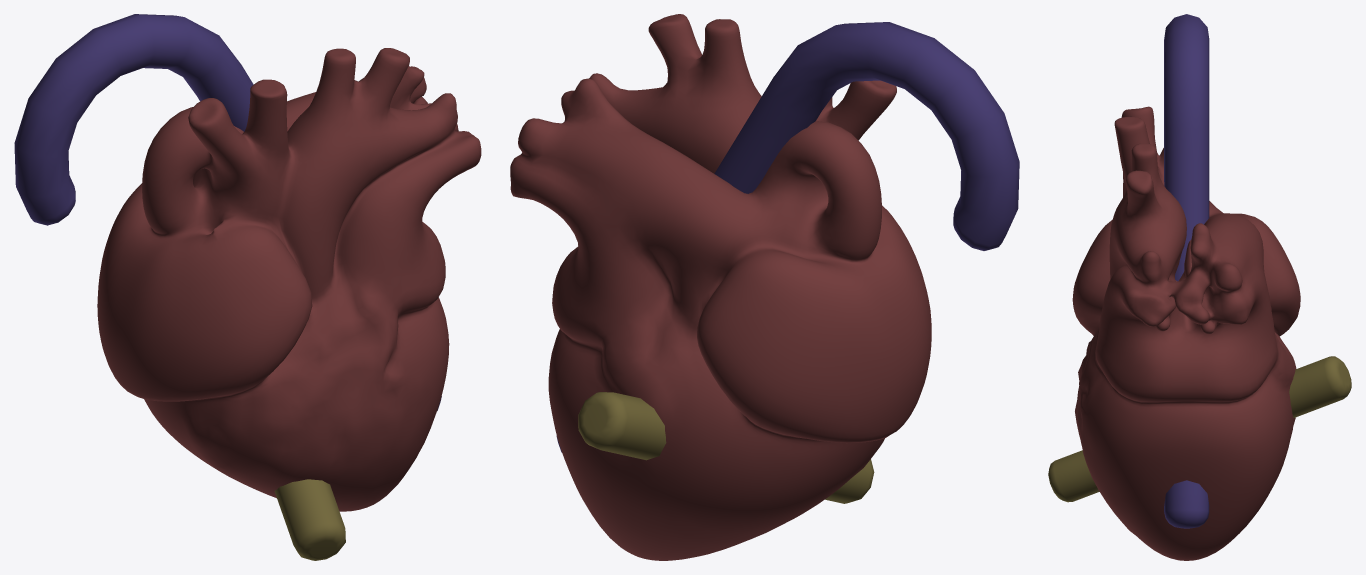
Rendered from DistractionGrenade.fbx.
3 views of the same model, side by side, from view 1: azimuth 30°, elevation 25°; view 2: azimuth 150°, elevation 25°; view 3: azimuth 270°, elevation 25° (orthographic). The views are drawn at different scales.
Parts seen in each view (by area): view 1: Sample; view 2: Sample; view 3: Sample.
Boxes of the visible parts, x1=… form: Sample: x1=14, y1=14, x2=481, y2=560; Sample: x1=510, y1=14, x2=1019, y2=560; Sample: x1=1048, y1=14, x2=1351, y2=560.
Size of the model in its own units: 3.96 by 4.55 by 2.8.
